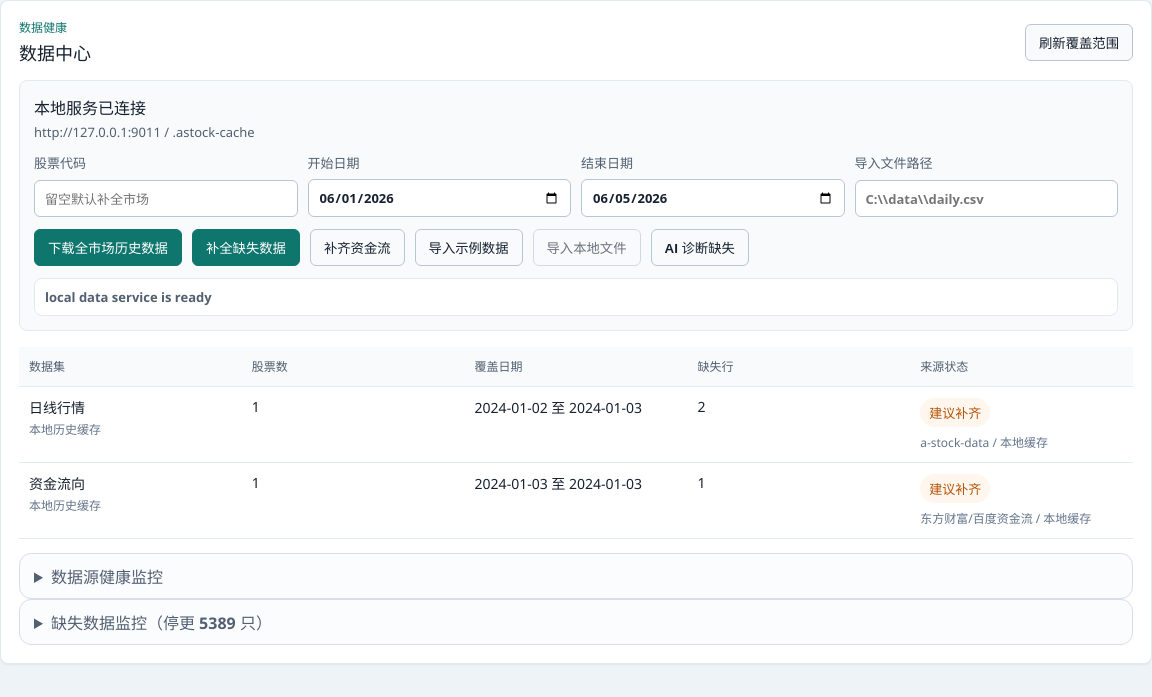
Test: DataCenter › shows recent per-symbol failures for a running capital-flow backfill job
Expected: the text "http://127.0.0.1:9011 / .astock-cache" is shown, 34,123 -> 254,141
Click the button "补齐资金流": (357, 248) 310,229 -> 404,266
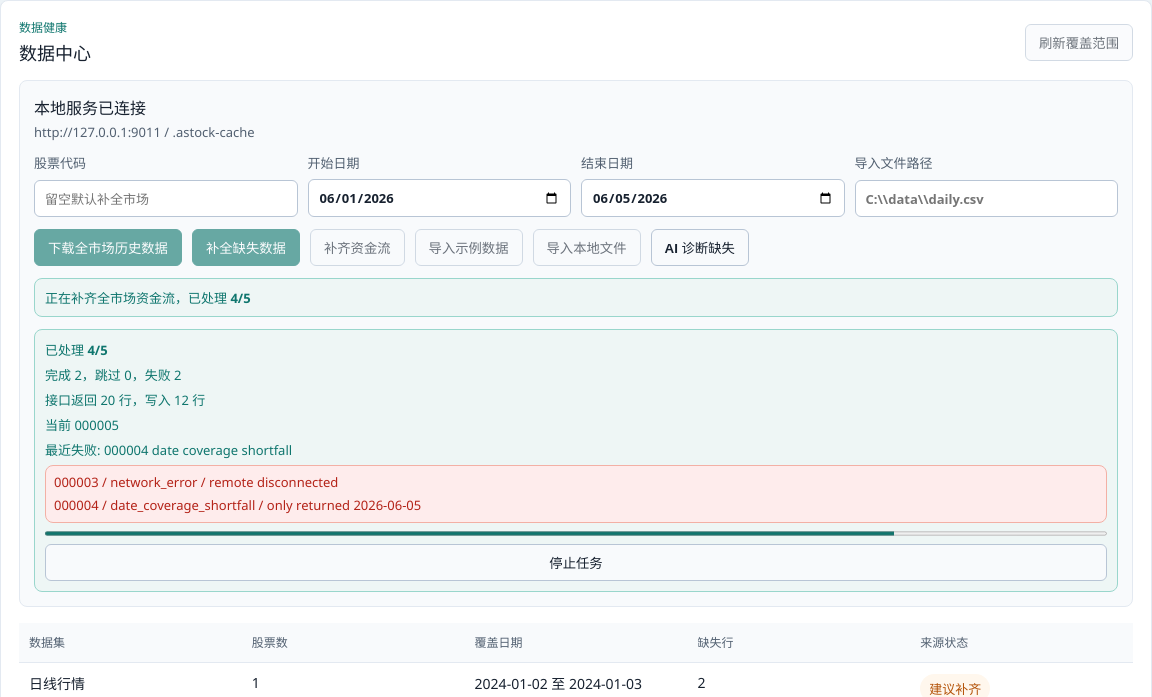
Expected: the text "000003 / network_error / remote disconnected" is shown, 54,473 -> 338,491
Expected: the text "000004 / date_coverage_shortfall / only returned 2026-06-05" is shown, 54,496 -> 421,514
